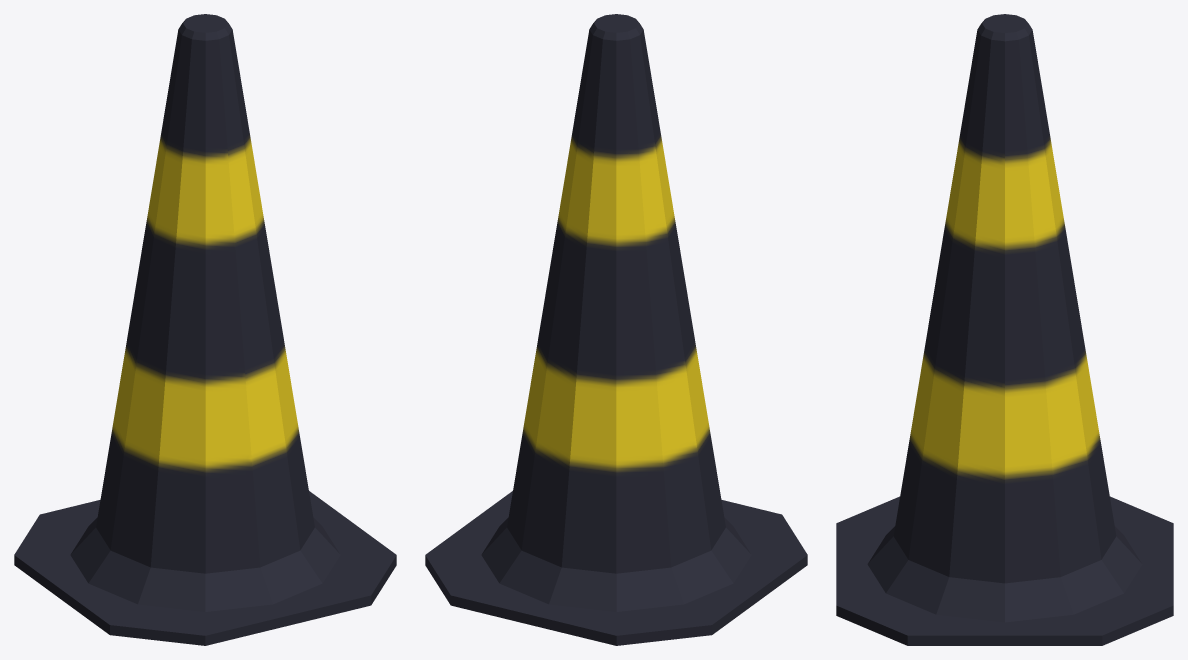
3 views of the same model, side by side, from view 1: azimuth 30°, elevation 25°; view 2: azimuth 150°, elevation 25°; view 3: azimuth 270°, elevation 25° (orthographic).
Parts seen in each view (by area): view 1: ConePreto; view 2: ConePreto; view 3: ConePreto.
Part boxes in pixels (x1=…): ConePreto: x1=14, y1=14, x2=396, y2=645; ConePreto: x1=425, y1=14, x2=807, y2=645; ConePreto: x1=836, y1=14, x2=1173, y2=645.
Size of the model in its own units: 39.23 by 70.74 by 39.23.
